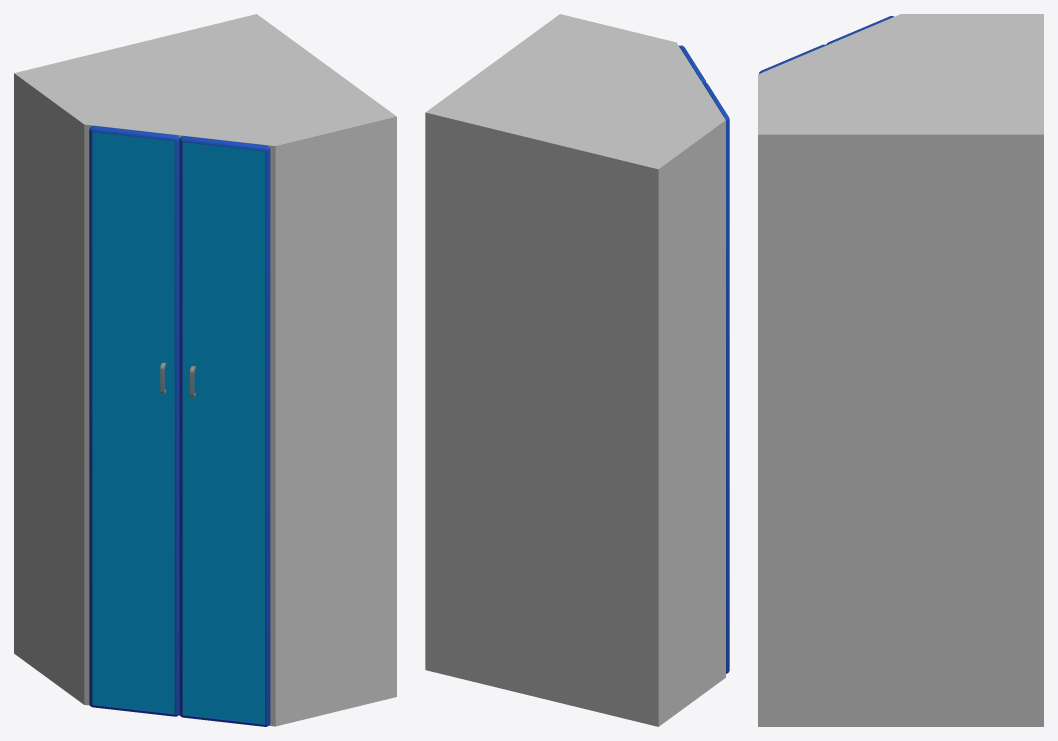
Rendered from mobileAngoloInterno.obj.
The picture shows the model from 3 angles, left to right: view 1: azimuth 30°, elevation 25°; view 2: azimuth 150°, elevation 25°; view 3: azimuth 270°, elevation 25°; orthographic projection. The views are drawn at different scales.
Visible parts, largest first — view 1: Line33_7, Box23_2, Box24_5, ChamferBox21_4, ChamferBox20_3; view 2: Line33_7, ChamferBox20_3; view 3: Line33_7.
Boxes of the visible parts, bbox=[...] form: Line33_7: bbox=[14, 14, 396, 726]; Box23_2: bbox=[92, 132, 174, 713]; Box24_5: bbox=[183, 142, 264, 723]; ChamferBox21_4: bbox=[179, 136, 270, 726]; ChamferBox20_3: bbox=[89, 126, 179, 716]; Line33_7: bbox=[425, 14, 725, 726]; ChamferBox20_3: bbox=[702, 82, 729, 673]; Line33_7: bbox=[758, 14, 1043, 726].
Bounding box in the file's own units: 105 × 240 × 105.
